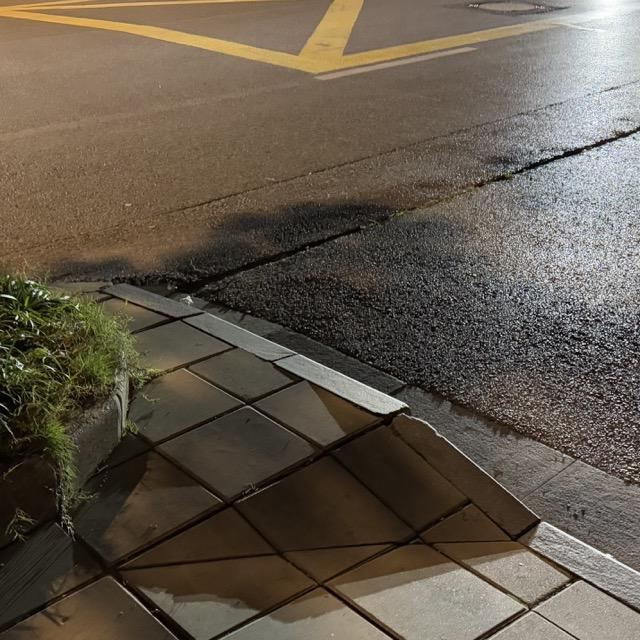curb: (58, 284, 639, 610), (73, 371, 129, 489)
